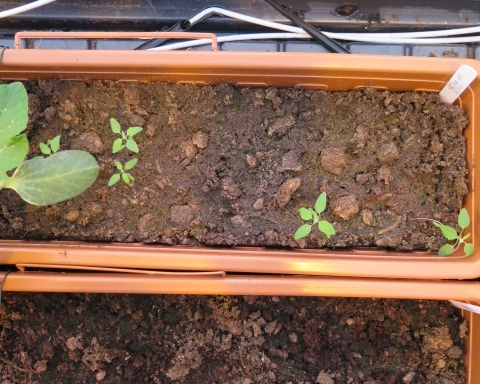weed: (289, 188, 338, 241), (430, 204, 475, 257), (107, 116, 144, 154), (106, 157, 141, 189)
